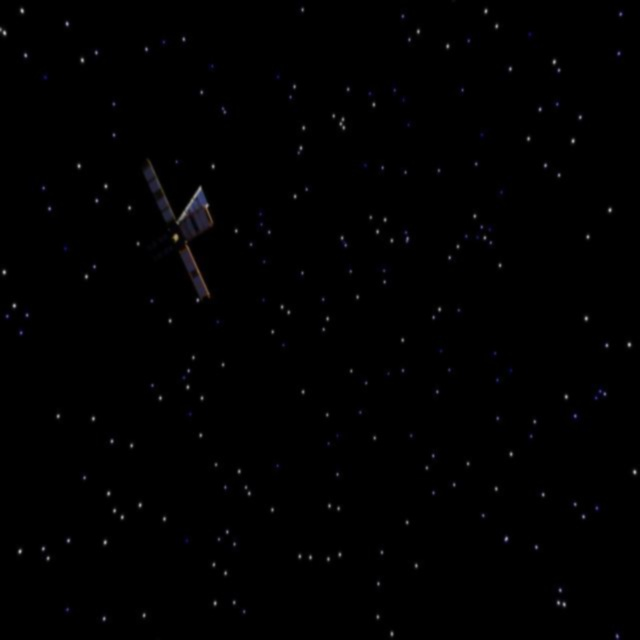satellite: (128, 152, 213, 296)
